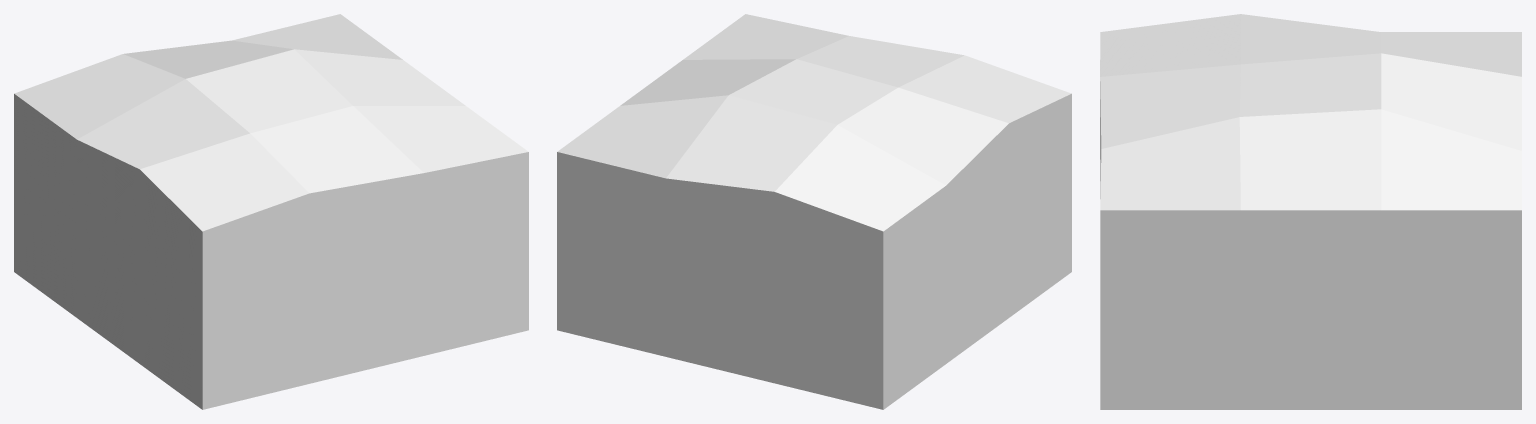
The model's file is DesertBoxFillerBlue.glb.
The picture shows the model from 3 angles, left to right: view 1: azimuth 30°, elevation 25°; view 2: azimuth 150°, elevation 25°; view 3: azimuth 270°, elevation 25°; orthographic projection. The views are drawn at different scales.
Parts seen in each view (by area): view 1: DesertBoxFillerBlue; view 2: DesertBoxFillerBlue; view 3: DesertBoxFillerBlue.
Part boxes in pixels (bbox=[...]): DesertBoxFillerBlue: bbox=[14, 14, 528, 409]; DesertBoxFillerBlue: bbox=[557, 14, 1071, 409]; DesertBoxFillerBlue: bbox=[1100, 14, 1521, 409].
Size of the model in its own units: 1.04 by 0.6545 by 1.04.
Materials: 1 (1 with a texture image).
